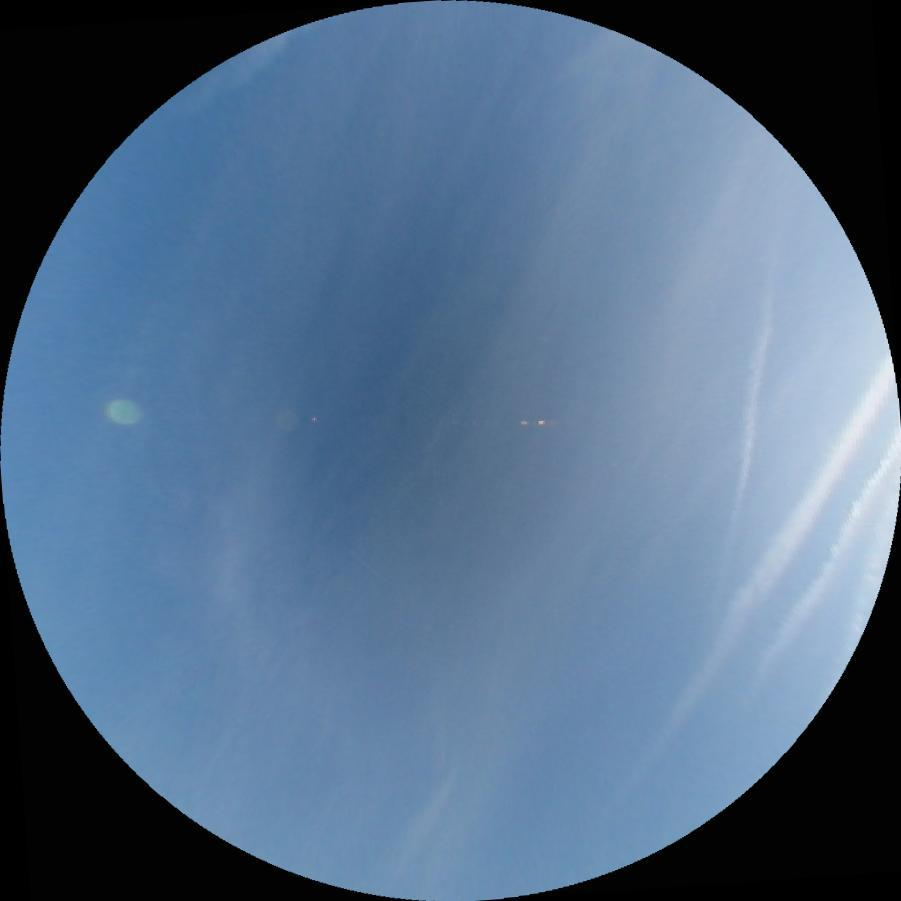contrail young: (320, 525, 381, 577)
unknow: (722, 246, 779, 567)
